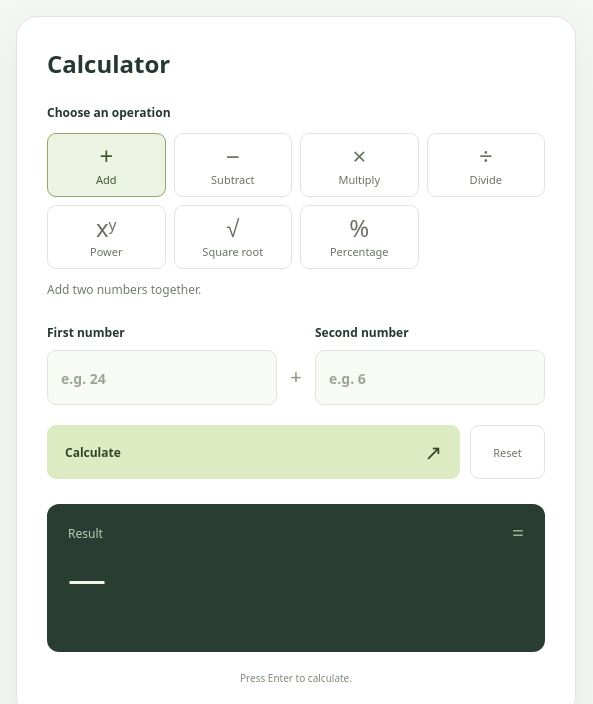
Test case: calculator form › switches binary operations
In the field labelled "First number": (162, 378) [47,350,277,405], type "12"
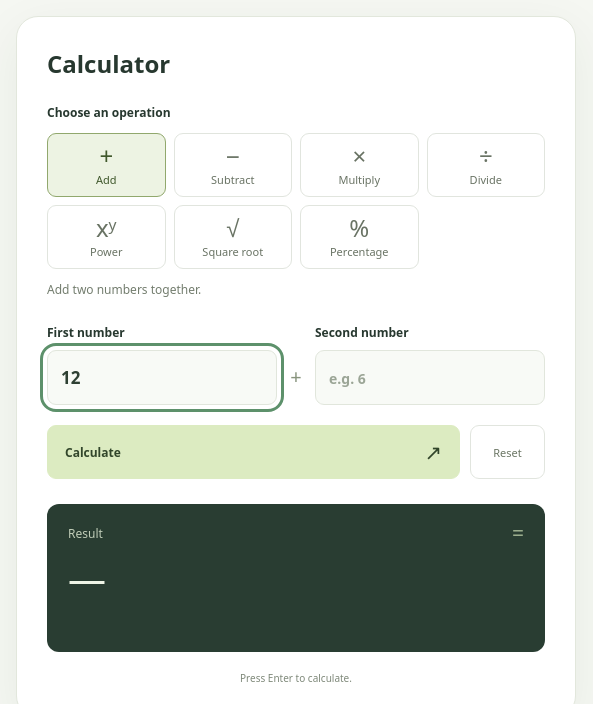
In the field labelled "Second number": (430, 378) [315,350,545,405], type "3"
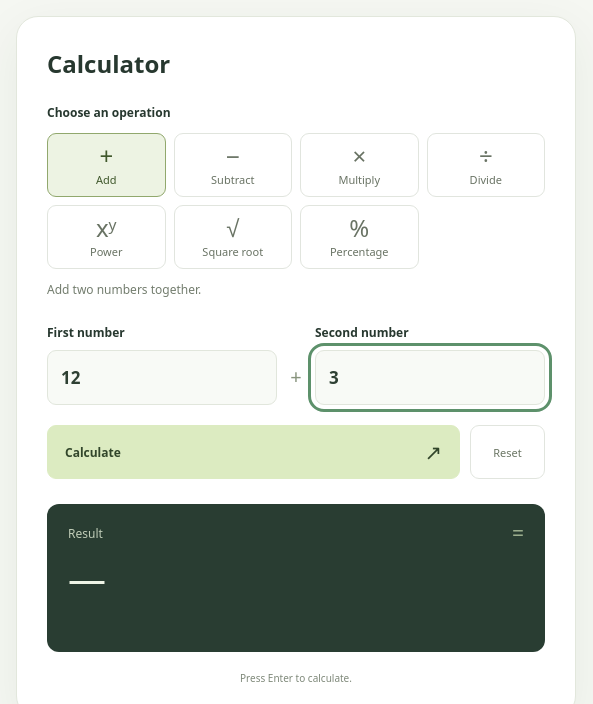
Click the button "÷ Divide": (486, 165) [426,133,545,197]
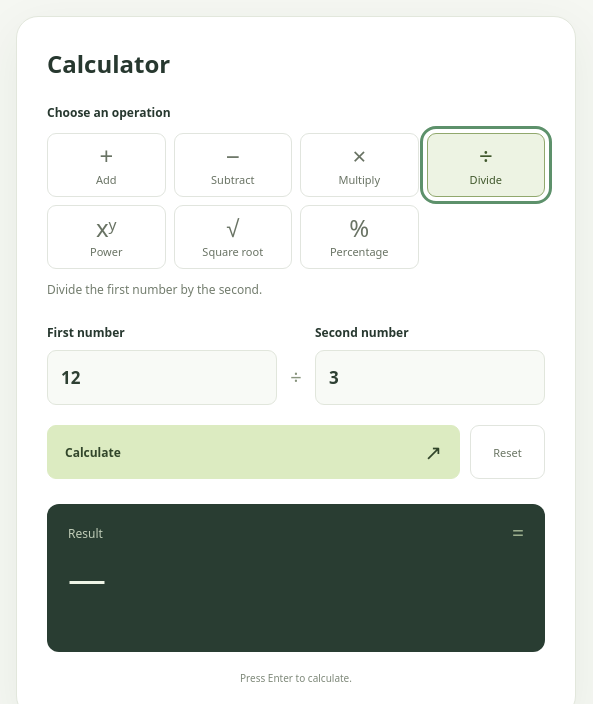
Click the button "Calculate ↗": (93, 452) [47,425,460,479]
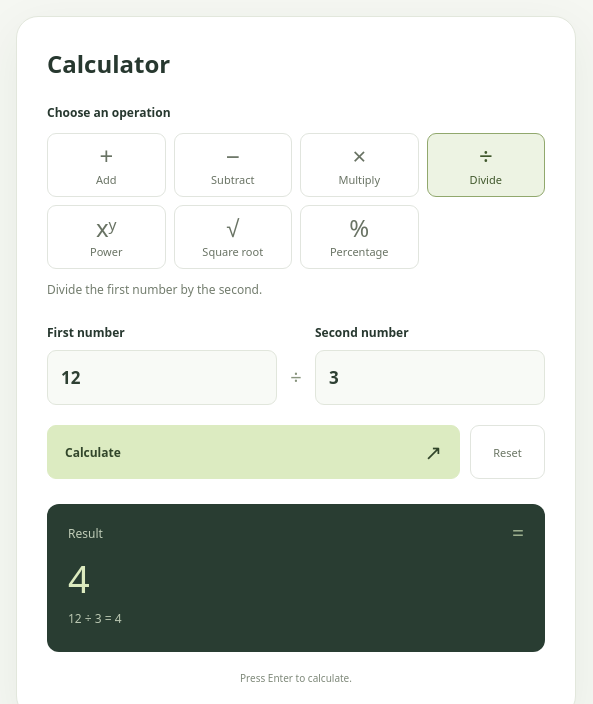
Now the text "12 ÷ 3 = 4" is shown, box [68,610,122,627]
